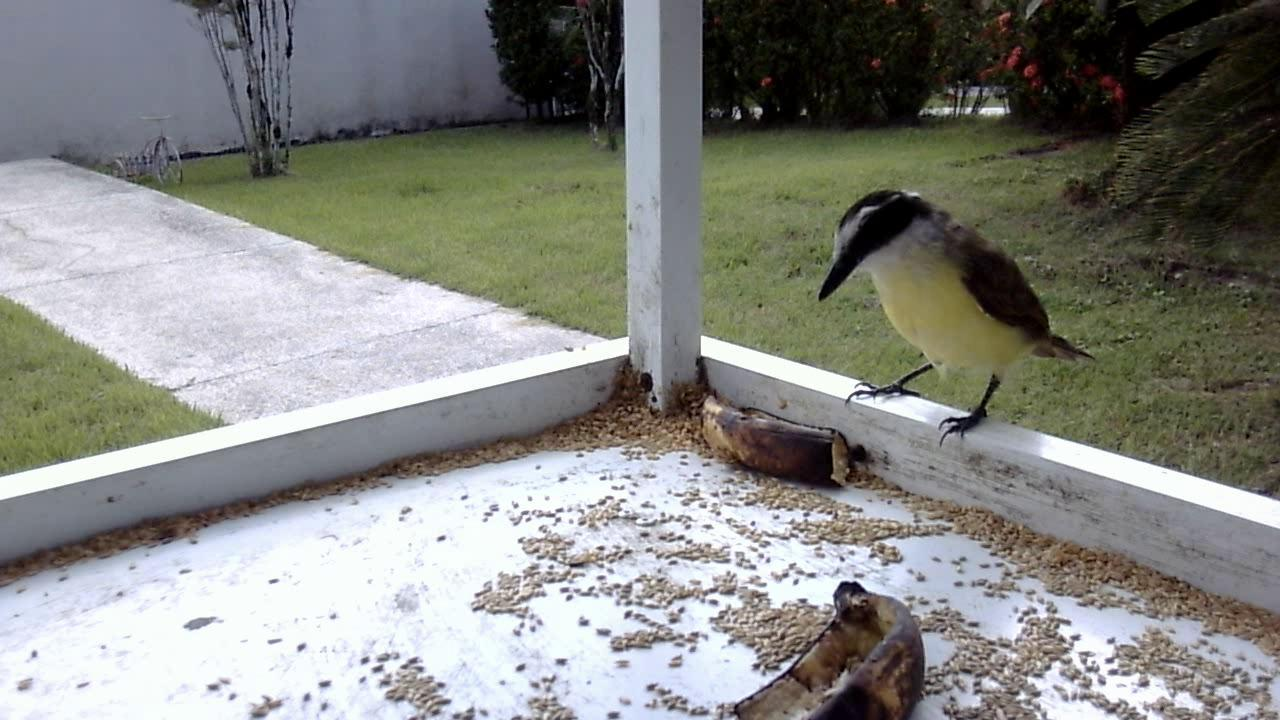bem_te_vi: (811, 179, 1101, 461)
